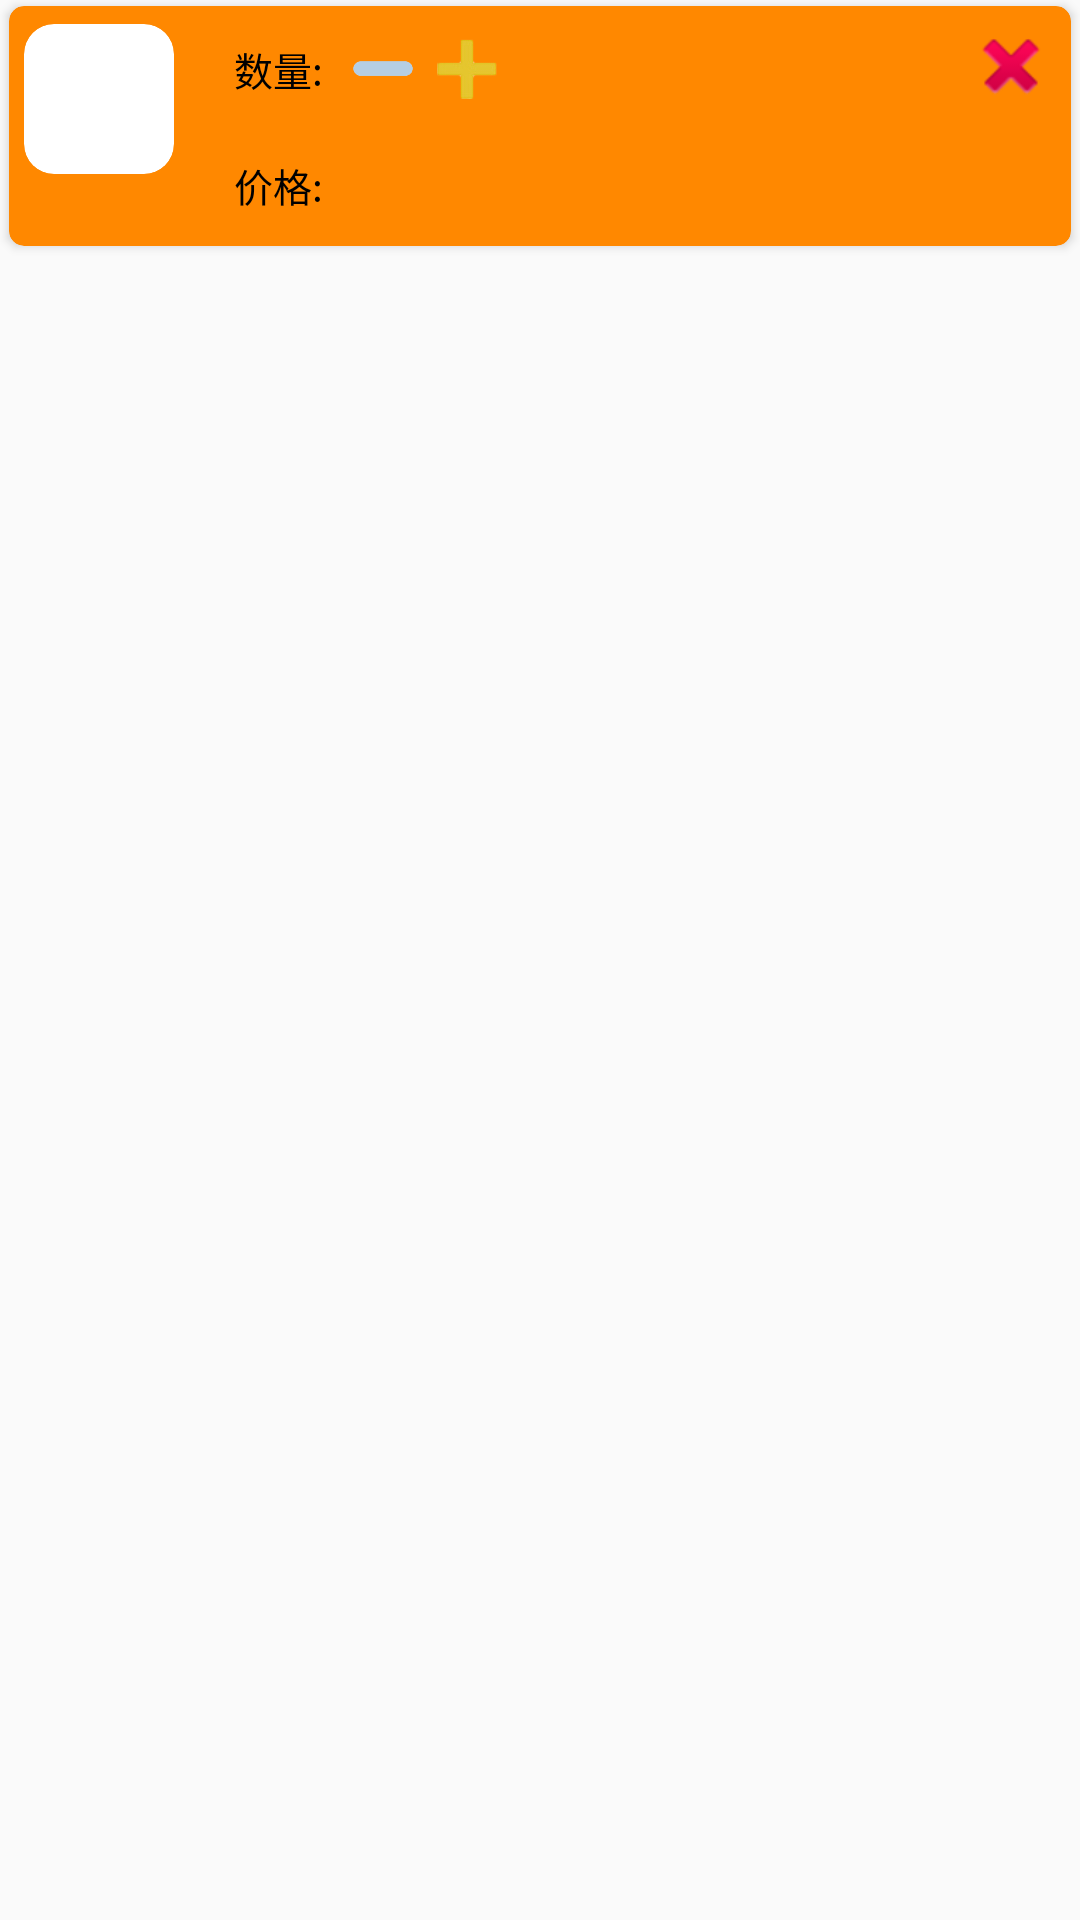

Icons on this 1080px x 1920px Android screen, each with its box as (x1, y1, x2, y2):
add: (437, 40, 496, 99)
delete: (983, 39, 1039, 94)
sub: (353, 61, 413, 76)
